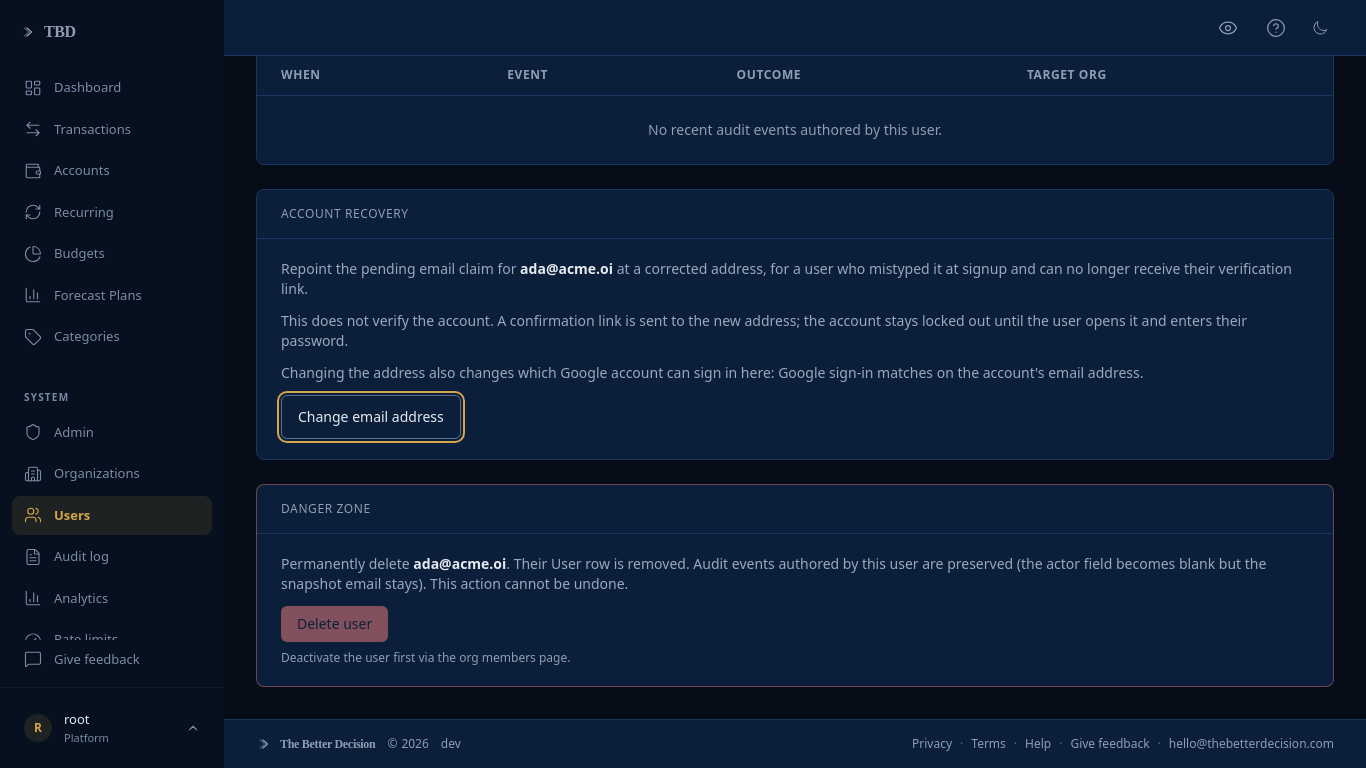
Test case: TBD-362 admin email recovery UI › F13: the 'does not verify the account' ruling is on BOTH the card and the modal, unreworded
(page scrolled)
Expected: the element with test id "account-recovery" shows "This does not verify the account. A confirmation link is sent to the new address; the account stays locked out until the user opens it and enters their passwor", [281,311,1247,350]
Expected: the element with test id "account-recovery" shows "Google", [281,363,1144,382]
What coordinates should you click on to do the following:
click the button "Change email address"
I would click on:
 (371, 417)
Its box is [281,395,461,439].
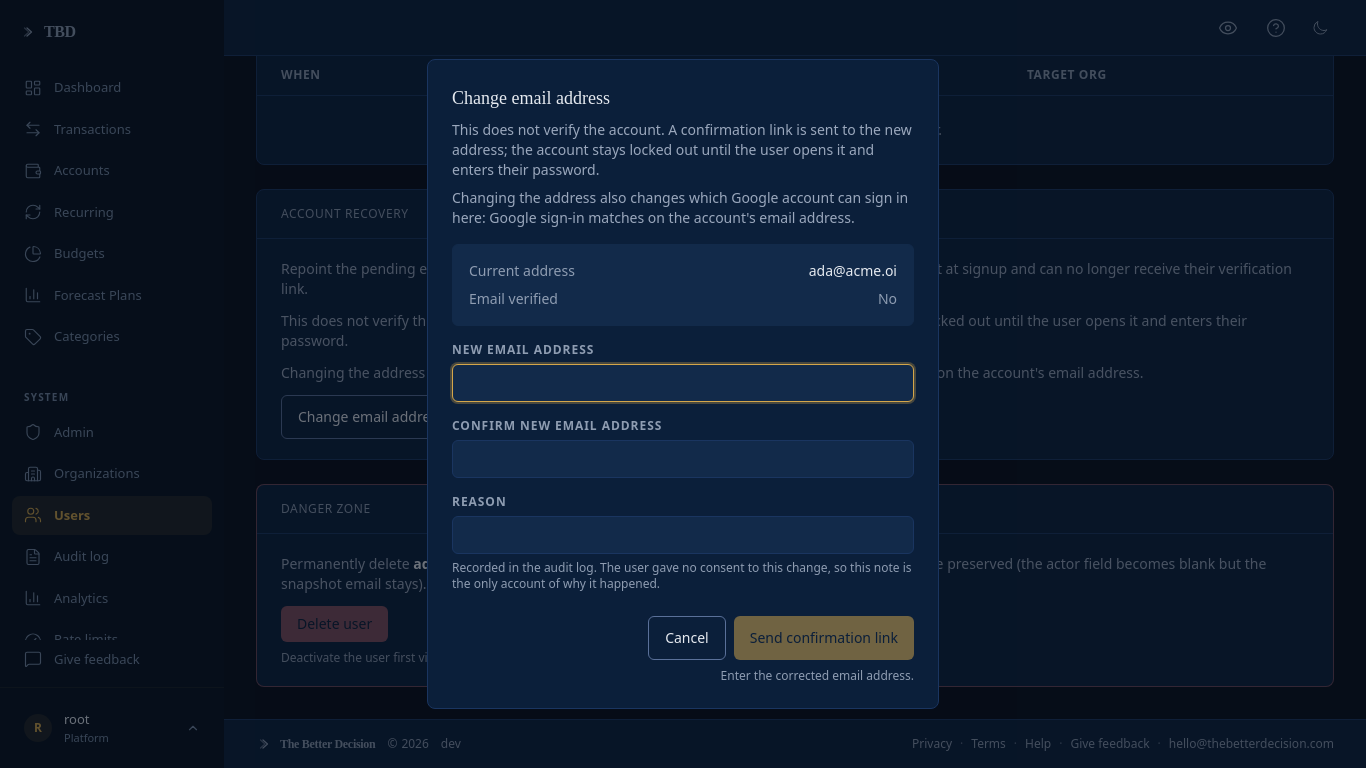
Expected: the dialog shows "This does not verify the account. A confirmation link is sent to the new address; the account stays locked out until the user opens it and enters their passwor", [452,120,912,179]
Expected: the dialog shows "Google", [452,188,908,227]
